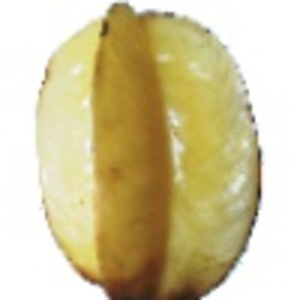carambola: (34, 2, 265, 300)
